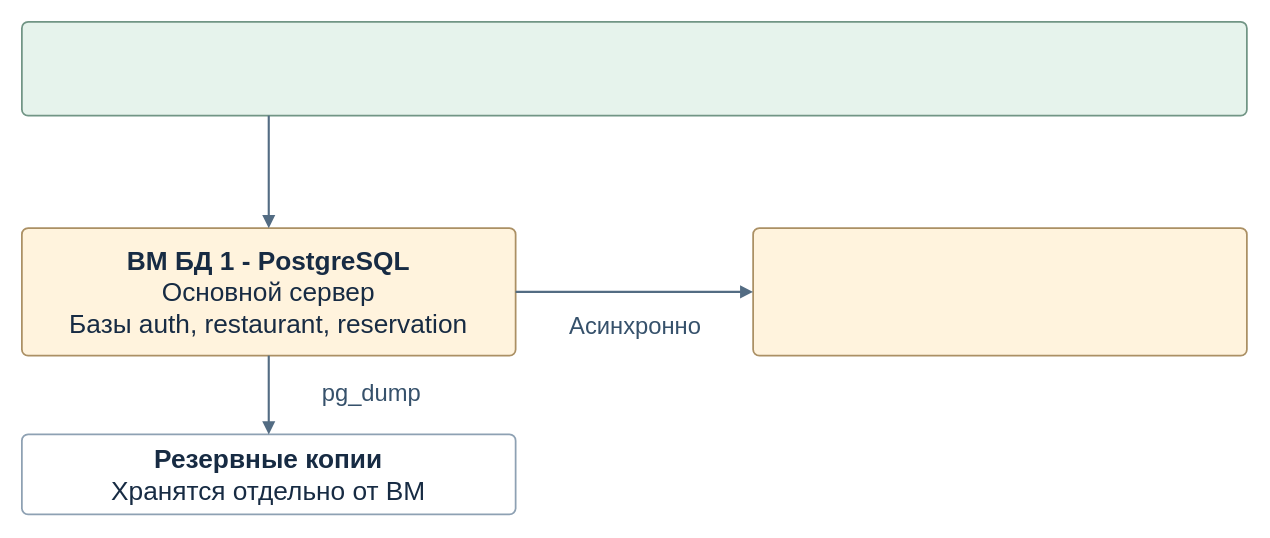
Image size: 1270x538. Some labels were removed from this diagram. Each missing label, with the centre of its shape:
"ВМ БД 2 - PostgreSQL Реплика в режиме чтения Копия всех трёх баз" goes at (x=999, y=291).
"ВМ приложения Auth, Restaurant и Reservation" goes at (x=633, y=68).
